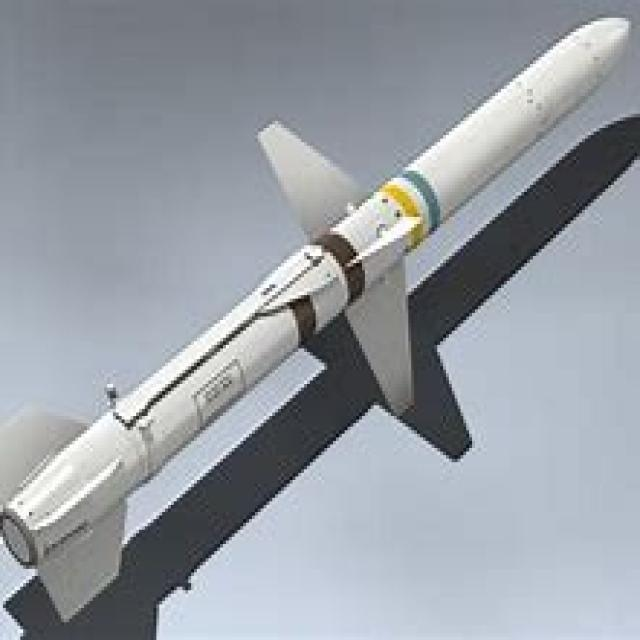missile: (0, 10, 639, 640)
